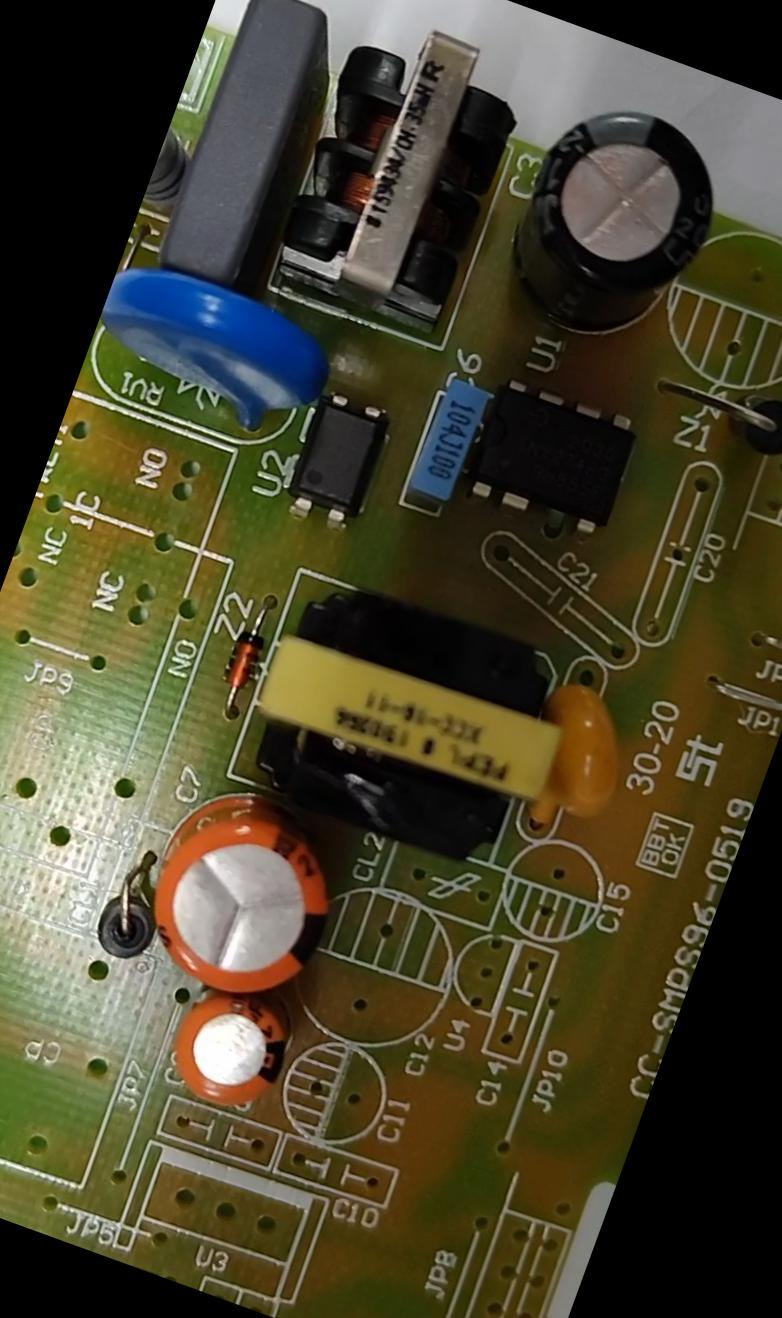Cap1: (129, 796, 353, 1016)
Cap2: (159, 981, 303, 1118)
Cap3: (494, 80, 736, 354)
MOSFET: (456, 370, 646, 539)
Mov: (86, 248, 340, 436)
Resistor: (142, 115, 206, 215)
Transformer: (225, 570, 576, 885), (265, 0, 537, 332)
